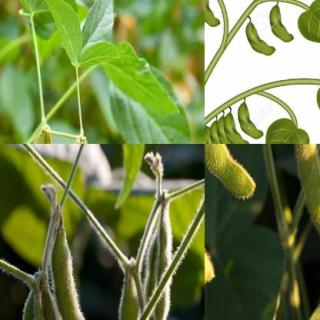soya: (52, 229, 92, 319), (205, 144, 257, 201), (294, 144, 319, 251), (153, 206, 175, 320), (204, 173, 216, 286), (236, 102, 265, 140), (244, 22, 276, 56), (270, 5, 296, 43), (112, 286, 140, 320), (222, 112, 250, 143), (41, 292, 71, 320), (9, 293, 36, 319), (218, 115, 243, 143), (210, 119, 236, 143), (204, 0, 221, 28), (205, 125, 216, 143)
